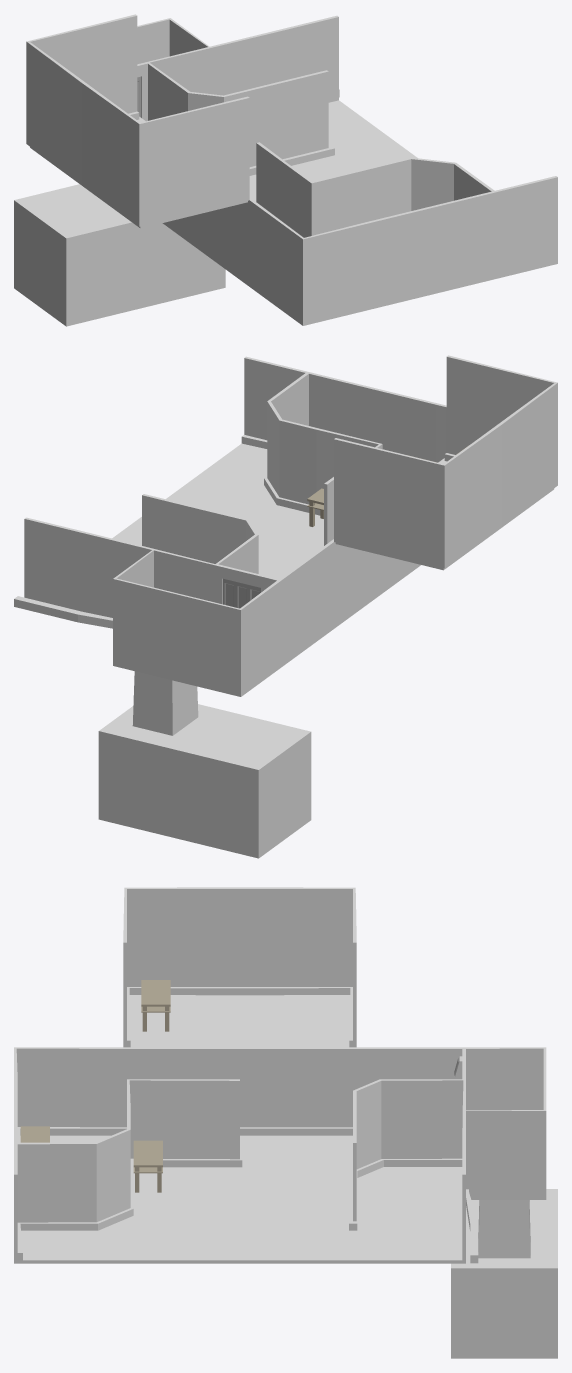
Rendered from Environment_object.fbx.
3 renders of one model, top to bottom at view 1: azimuth 30°, elevation 25°; view 2: azimuth 150°, elevation 25°; view 3: azimuth 270°, elevation 25°, orthographic. The views are drawn at different scales.
Visible parts, largest first — view 1: Plane.001, Plane.009, Plane.007, Plane, Plane.005, Plane.006, Plane.008, Plane.012; view 2: Plane.001, Plane.009, Plane.007, Plane, Plane.005, Plane.006, door; view 3: Plane.001, Plane, Plane.009, Plane.007, Plane.012, Plane.005, Plane.010, Plane.004, Plane.011.
Boxes of the visible parts, box(x1,y1,x2,y2) form: Plane.001: box(137, 15, 557, 322); Plane.009: box(26, 14, 249, 226); Plane.007: box(14, 184, 225, 326); Plane: box(162, 100, 557, 325); Plane.005: box(165, 89, 557, 323); Plane.006: box(137, 62, 147, 121); Plane.008: box(14, 282, 224, 324); Plane.012: box(30, 119, 247, 228); Plane.001: box(24, 356, 446, 693); Plane.009: box(334, 355, 557, 568); Plane.007: box(98, 704, 311, 858); Plane: box(112, 443, 420, 735); Plane.005: box(14, 434, 418, 693); Plane.006: box(216, 564, 282, 663); door: box(223, 578, 260, 608); Plane.001: box(14, 1047, 546, 1260); Plane: box(14, 1135, 546, 1263); Plane.009: box(123, 887, 356, 1047); Plane.007: box(451, 1189, 557, 1358); Plane.012: box(130, 995, 350, 1047); Plane.005: box(14, 1127, 546, 1263); Plane.010: box(127, 987, 352, 1047); Plane.004: box(133, 1140, 162, 1192); Plane.011: box(141, 980, 170, 1031).
Size of the model in its own units: 1161 by 1020 by 1444.
